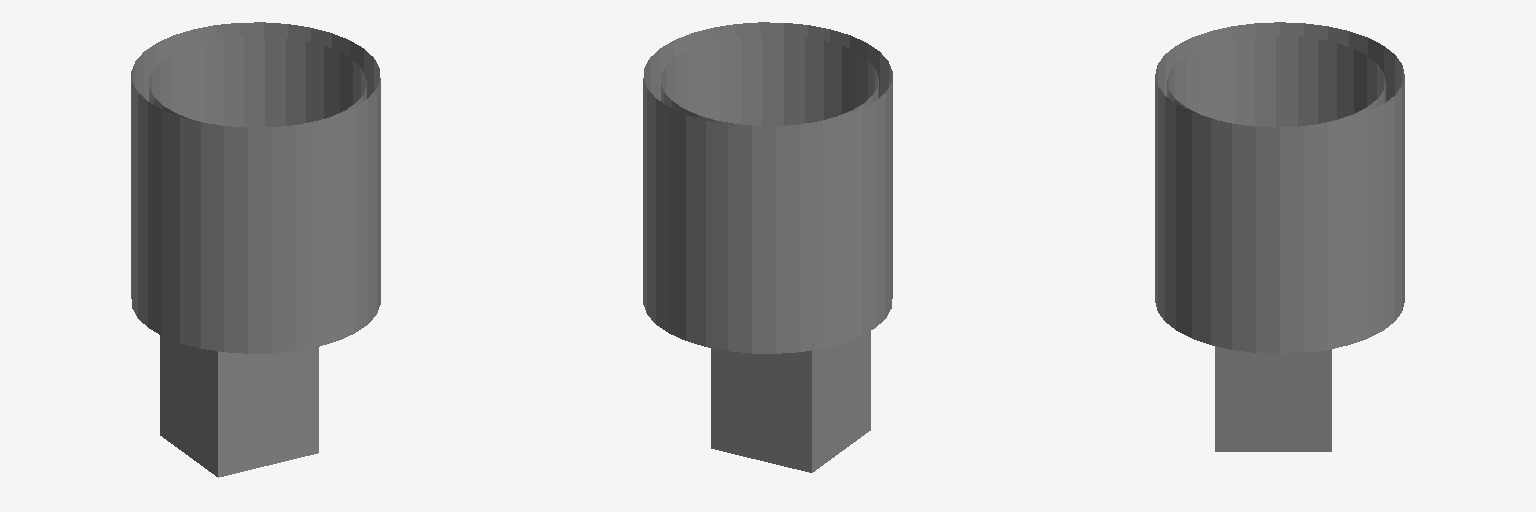
File: bin.obj
3 renders of one model, left to right at view 1: azimuth 30°, elevation 25°; view 2: azimuth 150°, elevation 25°; view 3: azimuth 270°, elevation 25°, orthographic.
Parts seen in each view (by area): view 1: Cube; view 2: Cube; view 3: Cube.
Part boxes in pixels (bbox=[...]): Cube: bbox=[131, 22, 380, 477]; Cube: bbox=[643, 22, 892, 472]; Cube: bbox=[1155, 22, 1404, 451].
Size of the model in its own units: 0.9685 by 1.55 by 0.9685.